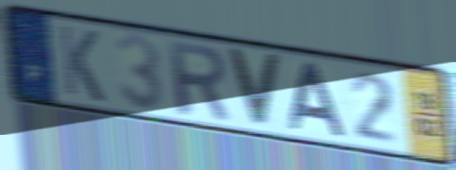2: (350, 71, 399, 147)
3: (116, 29, 164, 114)
A: (288, 61, 350, 141)
K: (55, 22, 107, 106)
R: (165, 37, 233, 123)
V: (224, 45, 284, 132)
